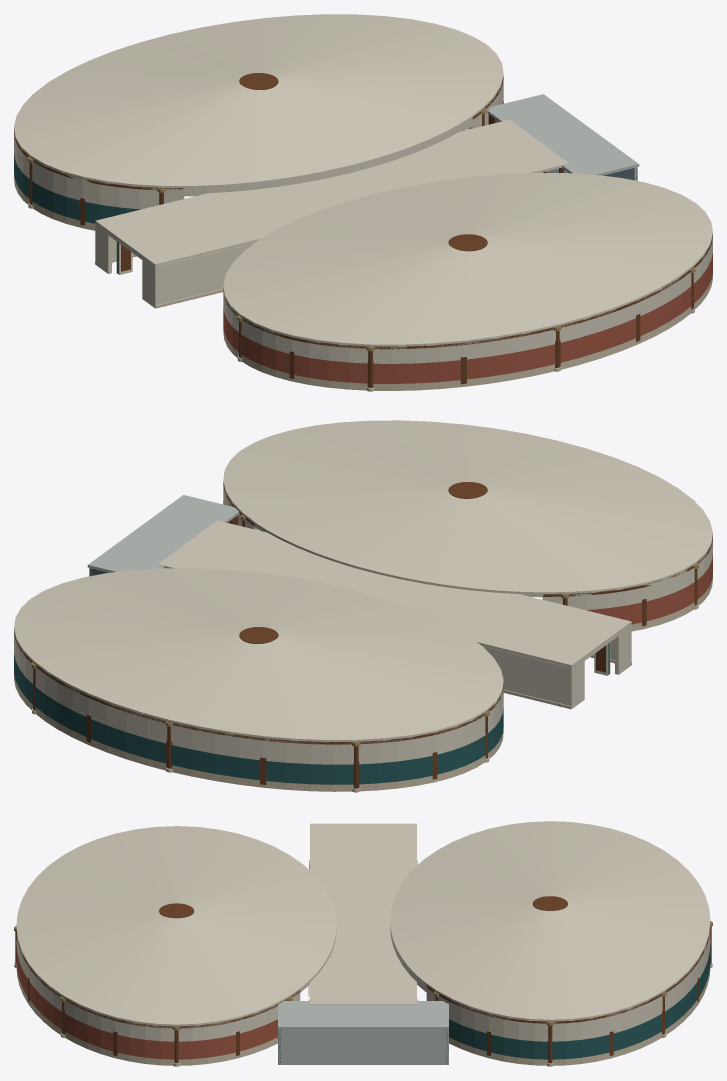
The model's file is WP15_team_lounge_runtime_compartment_material_v1.glb.
The picture shows the model from 3 angles, top to bottom: view 1: azimuth 30°, elevation 25°; view 2: azimuth 150°, elevation 25°; view 3: azimuth 270°, elevation 25°; orthographic projection. The views are drawn at different scales.
Visible parts, largest first — view 1: WP15_RT_aft_quiet_room_M03_static, WP15_RT_fore_team_room_M03_static, WP15_RT_arrival_neck_M03_static, WP15_RT_aft_quiet_room_M06_static, WP15_RT_support_annex_M12_static, WP15_RT_aft_quiet_room_M00_static, WP15_RT_aft_quiet_room_M01_static, WP15_RT_fore_team_room_M02_static, WP15_RT_fore_team_room_M01_static, WP15_RT_fore_team_room_M00_static; view 2: WP15_RT_fore_team_room_M03_static, WP15_RT_aft_quiet_room_M03_static, WP15_RT_arrival_neck_M03_static, WP15_RT_fore_team_room_M02_static, WP15_RT_support_annex_M12_static, WP15_RT_fore_team_room_M00_static, WP15_RT_fore_team_room_M01_static, WP15_RT_aft_quiet_room_M06_static, WP15_RT_aft_quiet_room_M01_static, WP15_RT_aft_quiet_room_M00_static; view 3: WP15_RT_fore_team_room_M03_static, WP15_RT_aft_quiet_room_M03_static, WP15_RT_arrival_neck_M03_static, WP15_RT_support_annex_M12_static, WP15_RT_fore_team_room_M02_static, WP15_RT_aft_quiet_room_M06_static, WP15_RT_fore_team_room_M01_static, WP15_RT_fore_team_room_M00_static, WP15_RT_aft_quiet_room_M00_static, WP15_RT_aft_quiet_room_M01_static.
Part boxes in pixels (x1,y1,x2,y2): WP15_RT_aft_quiet_room_M03_static: (223,172,712,363); WP15_RT_fore_team_room_M03_static: (14,14,503,209); WP15_RT_arrival_neck_M03_static: (95,119,569,307); WP15_RT_aft_quiet_room_M06_static: (223,253,712,383); WP15_RT_support_annex_M12_static: (487,94,639,180); WP15_RT_aft_quiet_room_M00_static: (223,273,712,391); WP15_RT_aft_quiet_room_M01_static: (223,234,712,387); WP15_RT_fore_team_room_M02_static: (14,100,503,223); WP15_RT_fore_team_room_M01_static: (14,73,503,225); WP15_RT_fore_team_room_M00_static: (14,174,95,230); WP15_RT_fore_team_room_M03_static: (14,568,503,764); WP15_RT_aft_quiet_room_M03_static: (223,420,712,610); WP15_RT_arrival_neck_M03_static: (158,520,631,708); WP15_RT_fore_team_room_M02_static: (14,654,503,784); WP15_RT_support_annex_M12_static: (87,495,239,575); WP15_RT_fore_team_room_M00_static: (14,674,503,792); WP15_RT_fore_team_room_M01_static: (14,627,503,788); WP15_RT_aft_quiet_room_M06_static: (223,501,712,624); WP15_RT_aft_quiet_room_M01_static: (223,482,712,626); WP15_RT_aft_quiet_room_M00_static: (631,574,712,631); WP15_RT_fore_team_room_M03_static: (390,821,710,1041); WP15_RT_aft_quiet_room_M03_static: (16,826,336,1041); WP15_RT_arrival_neck_M03_static: (310,823,416,1004); WP15_RT_support_annex_M12_static: (278,1001,448,1064); WP15_RT_fore_team_room_M02_static: (449,944,710,1059); WP15_RT_aft_quiet_room_M06_static: (16,944,277,1059); WP15_RT_fore_team_room_M01_static: (426,896,711,1063); WP15_RT_fore_team_room_M00_static: (449,962,712,1066); WP15_RT_aft_quiet_room_M00_static: (14,962,277,1066); WP15_RT_aft_quiet_room_M01_static: (15,903,300,1063).
Bounding box in the file's own units: 45.23 × 6.52 × 65.46.
Materials: 61 (60 with a texture image).
